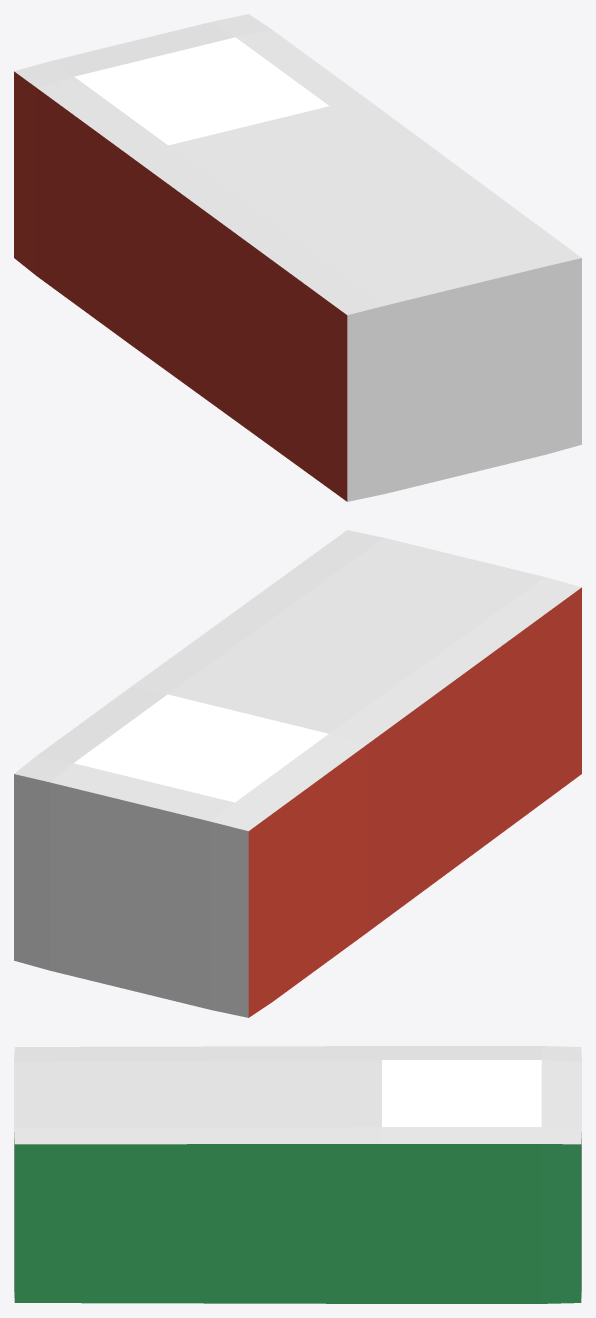
The model's file is cornell.glb.
3 renders of one model, top to bottom at view 1: azimuth 30°, elevation 25°; view 2: azimuth 150°, elevation 25°; view 3: azimuth 270°, elevation 25°, orthographic. The views are drawn at different scales.
Parts seen in each view (by area): view 1: Room; view 2: Room; view 3: Room.
Boxes of the visible parts, x1,y1,x2,y2 form: Room: (14, 14, 581, 501); Room: (14, 530, 581, 1017); Room: (14, 1046, 581, 1303).
Bounding box in the file's own units: 4 × 3.1 × 9.79.
